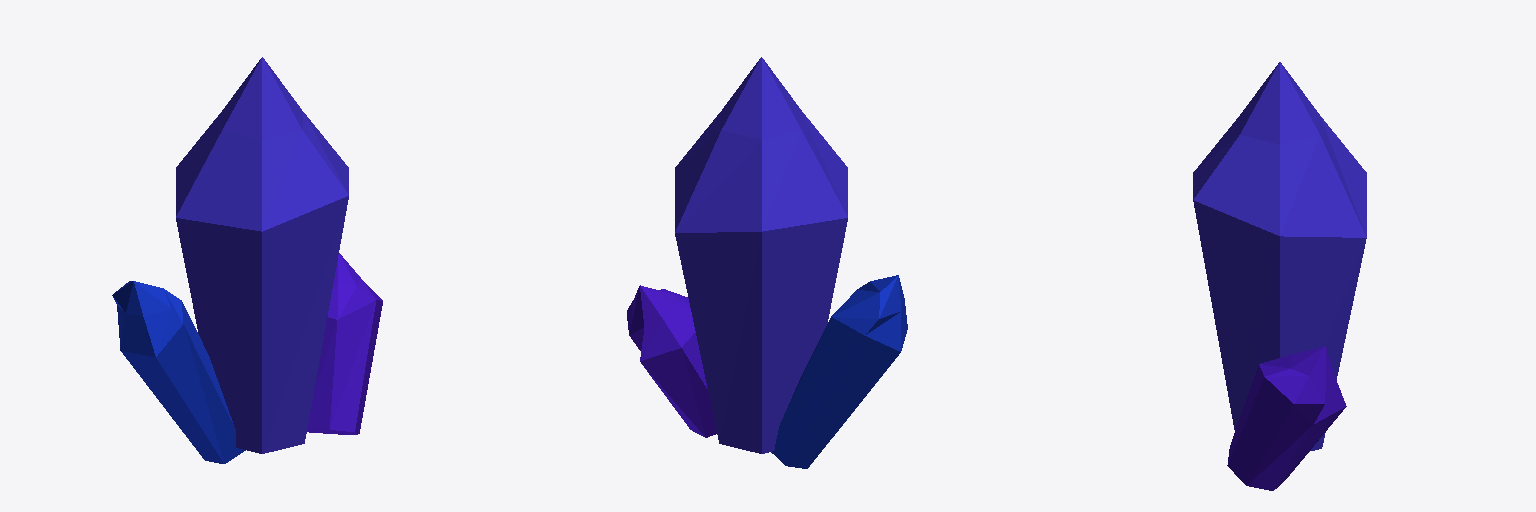
Rendered from crystal_cluster.obj.
3 views of the same model, side by side, from view 1: azimuth 30°, elevation 25°; view 2: azimuth 150°, elevation 25°; view 3: azimuth 270°, elevation 25° (orthographic).
Visible parts, largest first — view 1: Cylinder001, Cylinder002, Cylinder003; view 2: Cylinder001, Cylinder002, Cylinder003; view 3: Cylinder001, Cylinder003.
Part boxes in pixels (left/top/right/bottom): Cylinder001: left=176, top=57, right=348, bottom=453; Cylinder002: left=112, top=281, right=245, bottom=463; Cylinder003: left=307, top=253, right=382, bottom=434; Cylinder001: left=675, top=57, right=847, bottom=453; Cylinder002: left=771, top=275, right=907, bottom=468; Cylinder003: left=627, top=285, right=716, bottom=437; Cylinder001: left=1193, top=62, right=1366, bottom=451; Cylinder003: left=1227, top=346, right=1346, bottom=490.
Size of the model in its own units: 0.7791 by 1.1 by 0.4358.